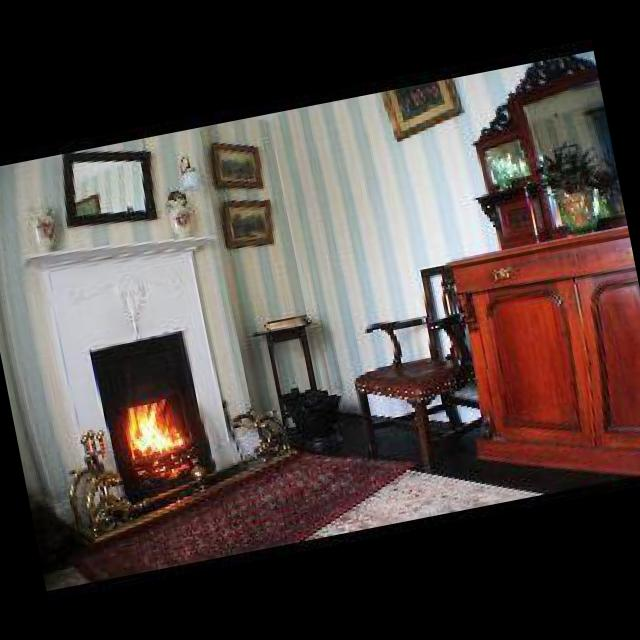Fire: (114, 390, 197, 478)
